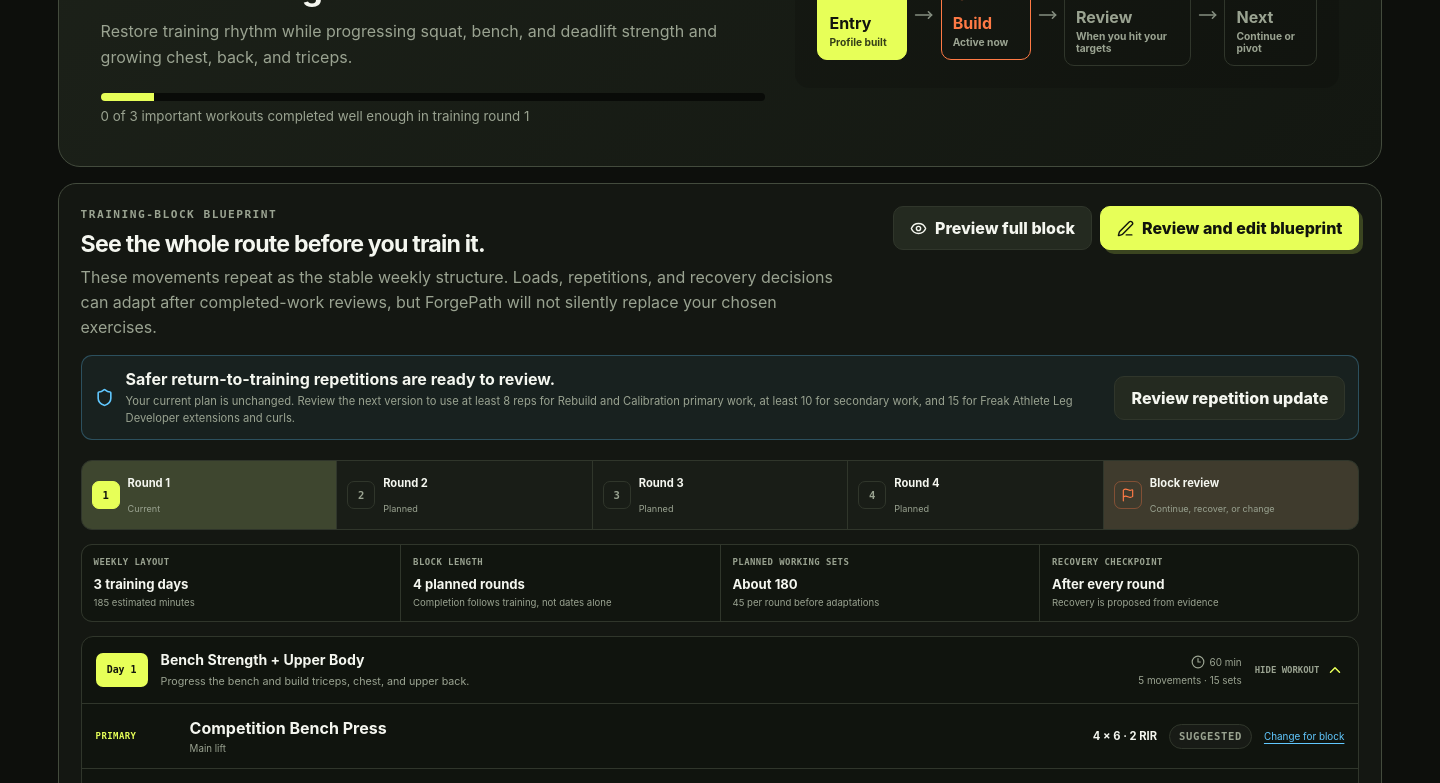
Test case: training-block blueprint › offers an athlete-approved route to the safer repetition policy without rewriting the active plan
(page scrolled)
Check: the message shows "Safer return-to-training repetitions are ready to review", box [126,369,555,389]
Click the button "Review repetition update" at (1230, 398), box [1114,376,1346,420]
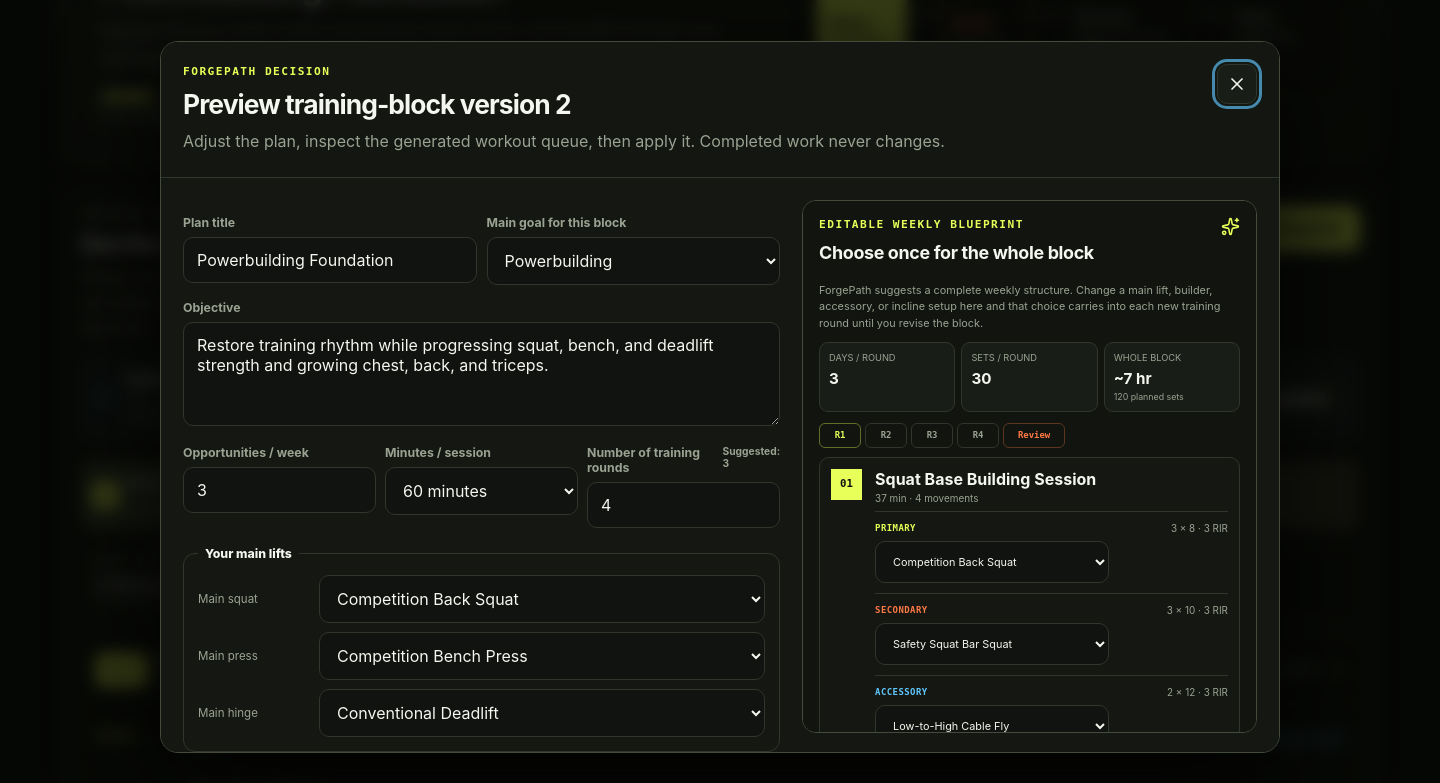
Check: the dialog "Preview training-block version 2" is shown
